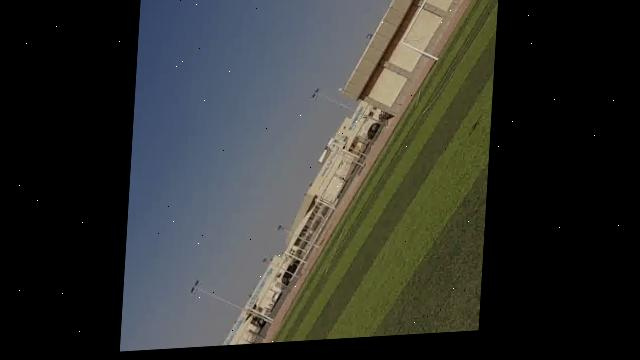drone: (314, 0, 337, 5)
